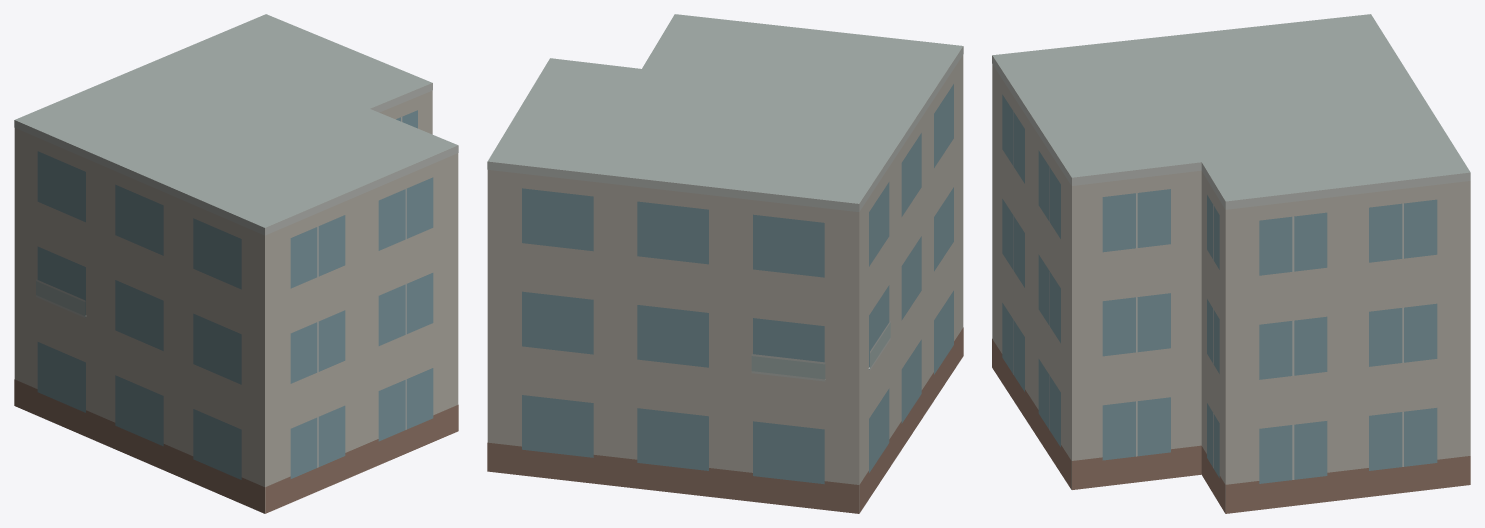
File: survey-upis-32940643.glb
3 renders of one model, left to right at view 1: azimuth 30°, elevation 25°; view 2: azimuth 150°, elevation 25°; view 3: azimuth 270°, elevation 25°, orthographic. The views are drawn at different scales.
Visible parts, largest first — view 1: survey-upis-32940643.tmp; view 2: survey-upis-32940643.tmp; view 3: survey-upis-32940643.tmp.
Part boxes in pixels (box(x1,y1,x2,y2)): survey-upis-32940643.tmp: box(14, 14, 458, 513); survey-upis-32940643.tmp: box(487, 14, 963, 513); survey-upis-32940643.tmp: box(992, 14, 1470, 513).
Size of the model in its own units: 11.79 by 9.15 by 12.72.
